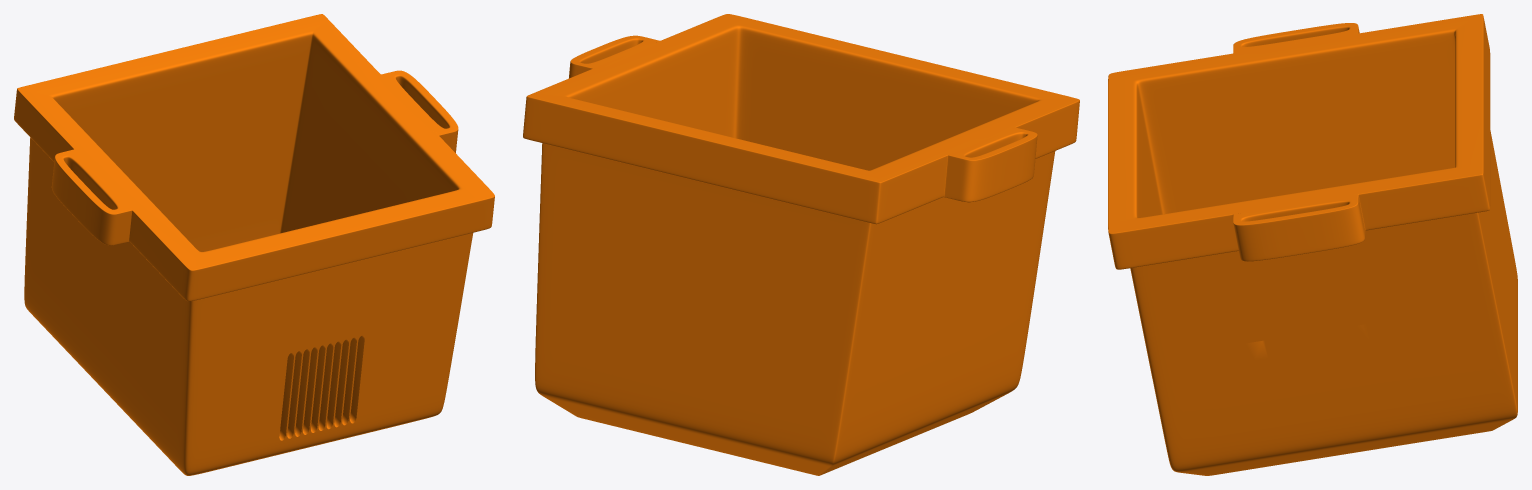
The model's file is Bin.fbx.
3 views of the same model, side by side, from view 1: azimuth 30°, elevation 25°; view 2: azimuth 150°, elevation 25°; view 3: azimuth 270°, elevation 25° (orthographic). The views are drawn at different scales.
Visible parts, largest first — view 1: bin; view 2: bin; view 3: bin.
Part boxes in pixels (box(x1,y1,x2,y2)): bin: box(14, 14, 494, 475); bin: box(523, 14, 1079, 475); bin: box(1108, 14, 1517, 475).
Bounding box in the file's own units: 299 × 243 × 276.
